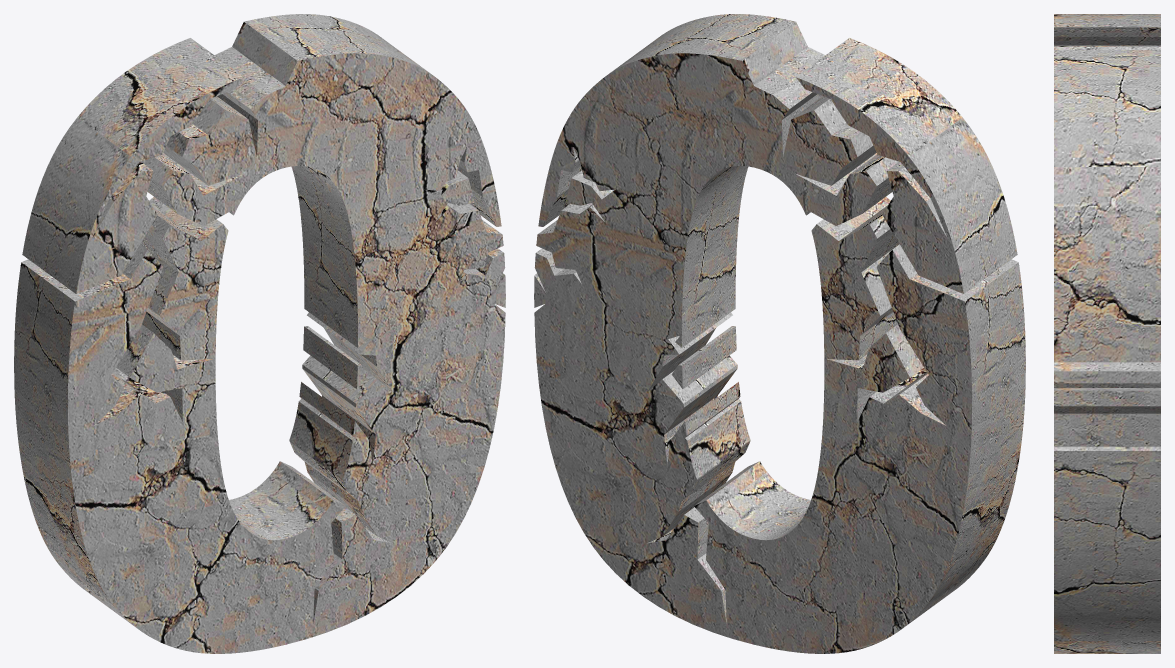
3 renders of one model, left to right at view 1: azimuth 30°, elevation 25°; view 2: azimuth 150°, elevation 25°; view 3: azimuth 270°, elevation 25°, orthographic.
Visible parts, largest first — view 1: 0; view 2: 0; view 3: 0.
Boxes of the visible parts, x1=… form: 0: x1=14, y1=14, x2=505, y2=653; 0: x1=534, y1=14, x2=1025, y2=653; 0: x1=1054, y1=14, x2=1160, y2=653.
Bounding box in the file's own units: 70.55 × 89.41 × 15.
1 material, 1 textured.
